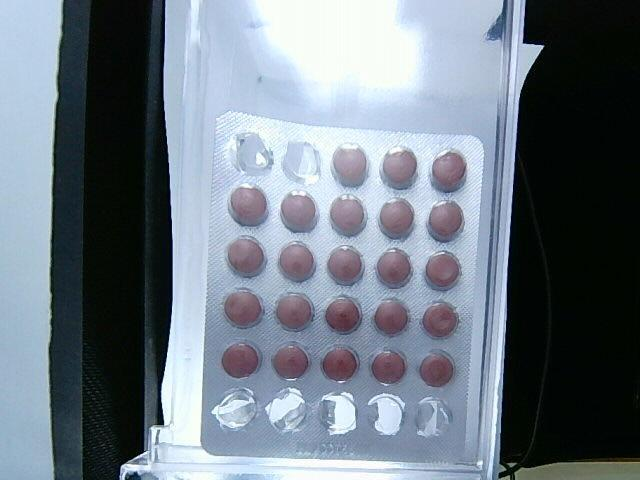Light Front: (201, 112, 487, 466)
No Pill Front: (265, 388, 313, 433), (228, 133, 274, 176), (211, 389, 257, 430), (318, 391, 358, 434), (368, 393, 405, 436), (283, 141, 320, 183), (415, 396, 451, 437)
Pill Front: (226, 236, 266, 276), (430, 149, 467, 192), (380, 145, 417, 188), (271, 343, 311, 381), (275, 293, 315, 331), (375, 248, 413, 288), (278, 241, 316, 281), (326, 245, 364, 285), (229, 185, 267, 225), (280, 191, 318, 231), (378, 198, 415, 238), (330, 194, 366, 235), (320, 345, 358, 382), (324, 295, 361, 333), (428, 201, 464, 240), (221, 343, 261, 378), (225, 290, 263, 326), (425, 251, 461, 289), (333, 144, 366, 185), (421, 301, 458, 337), (373, 299, 410, 335), (369, 349, 407, 384), (419, 351, 455, 386)
